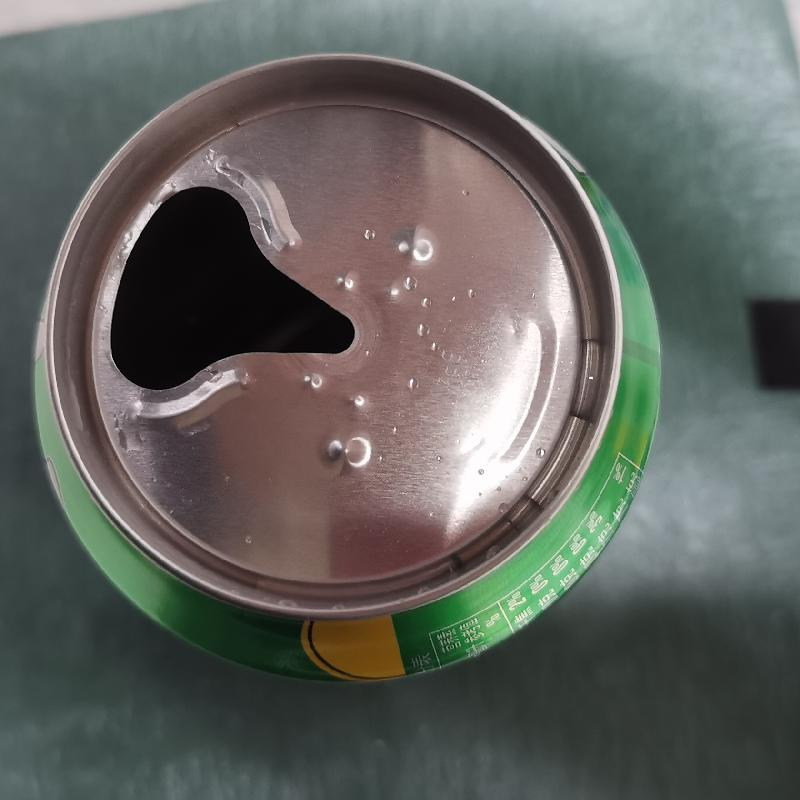cans: (30, 49, 663, 683)
